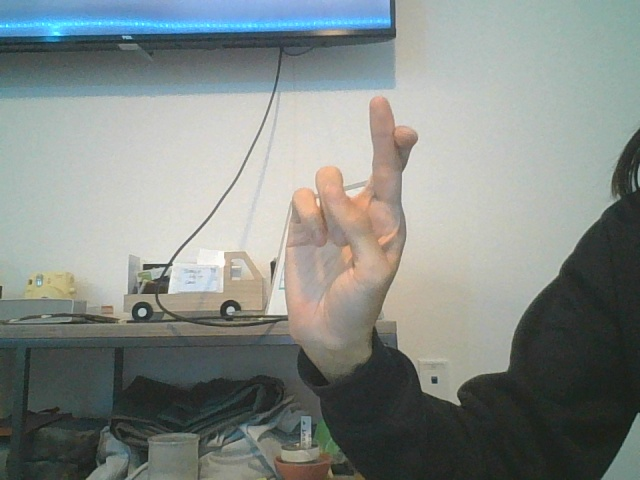r: (282, 98, 420, 367)
